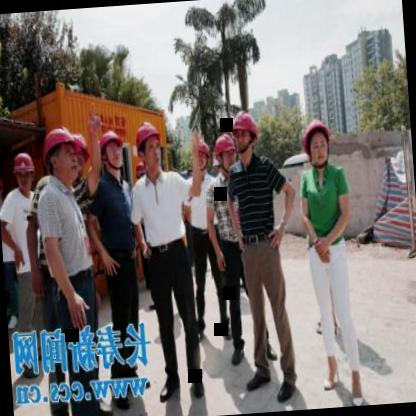helmet: (40, 119, 82, 186), (297, 113, 336, 168), (134, 120, 164, 178), (97, 128, 128, 178), (231, 108, 261, 158), (66, 127, 90, 181), (9, 151, 36, 193), (190, 131, 211, 176), (214, 132, 236, 174), (0, 168, 8, 204)
